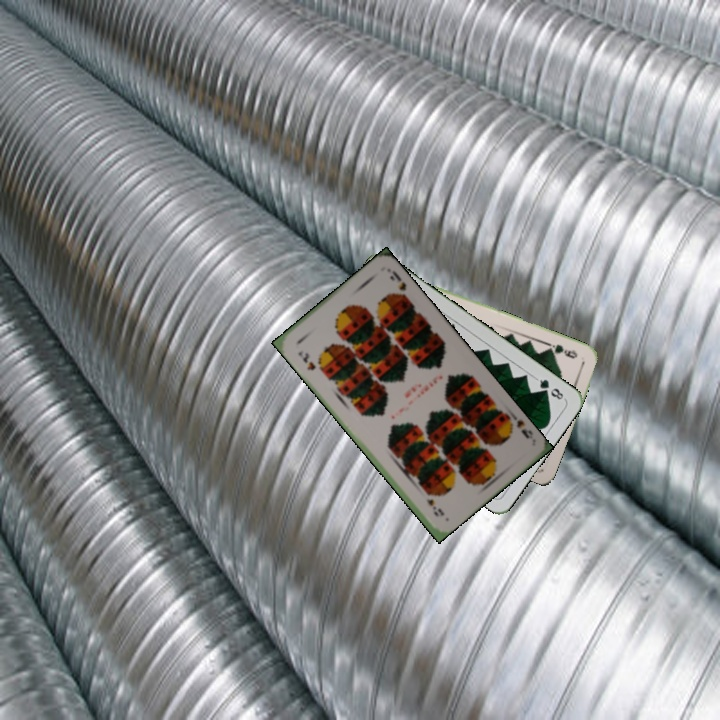G8: (532, 374, 567, 402)
G9: (543, 340, 580, 361)
S9: (504, 408, 536, 442), (294, 347, 318, 373)
